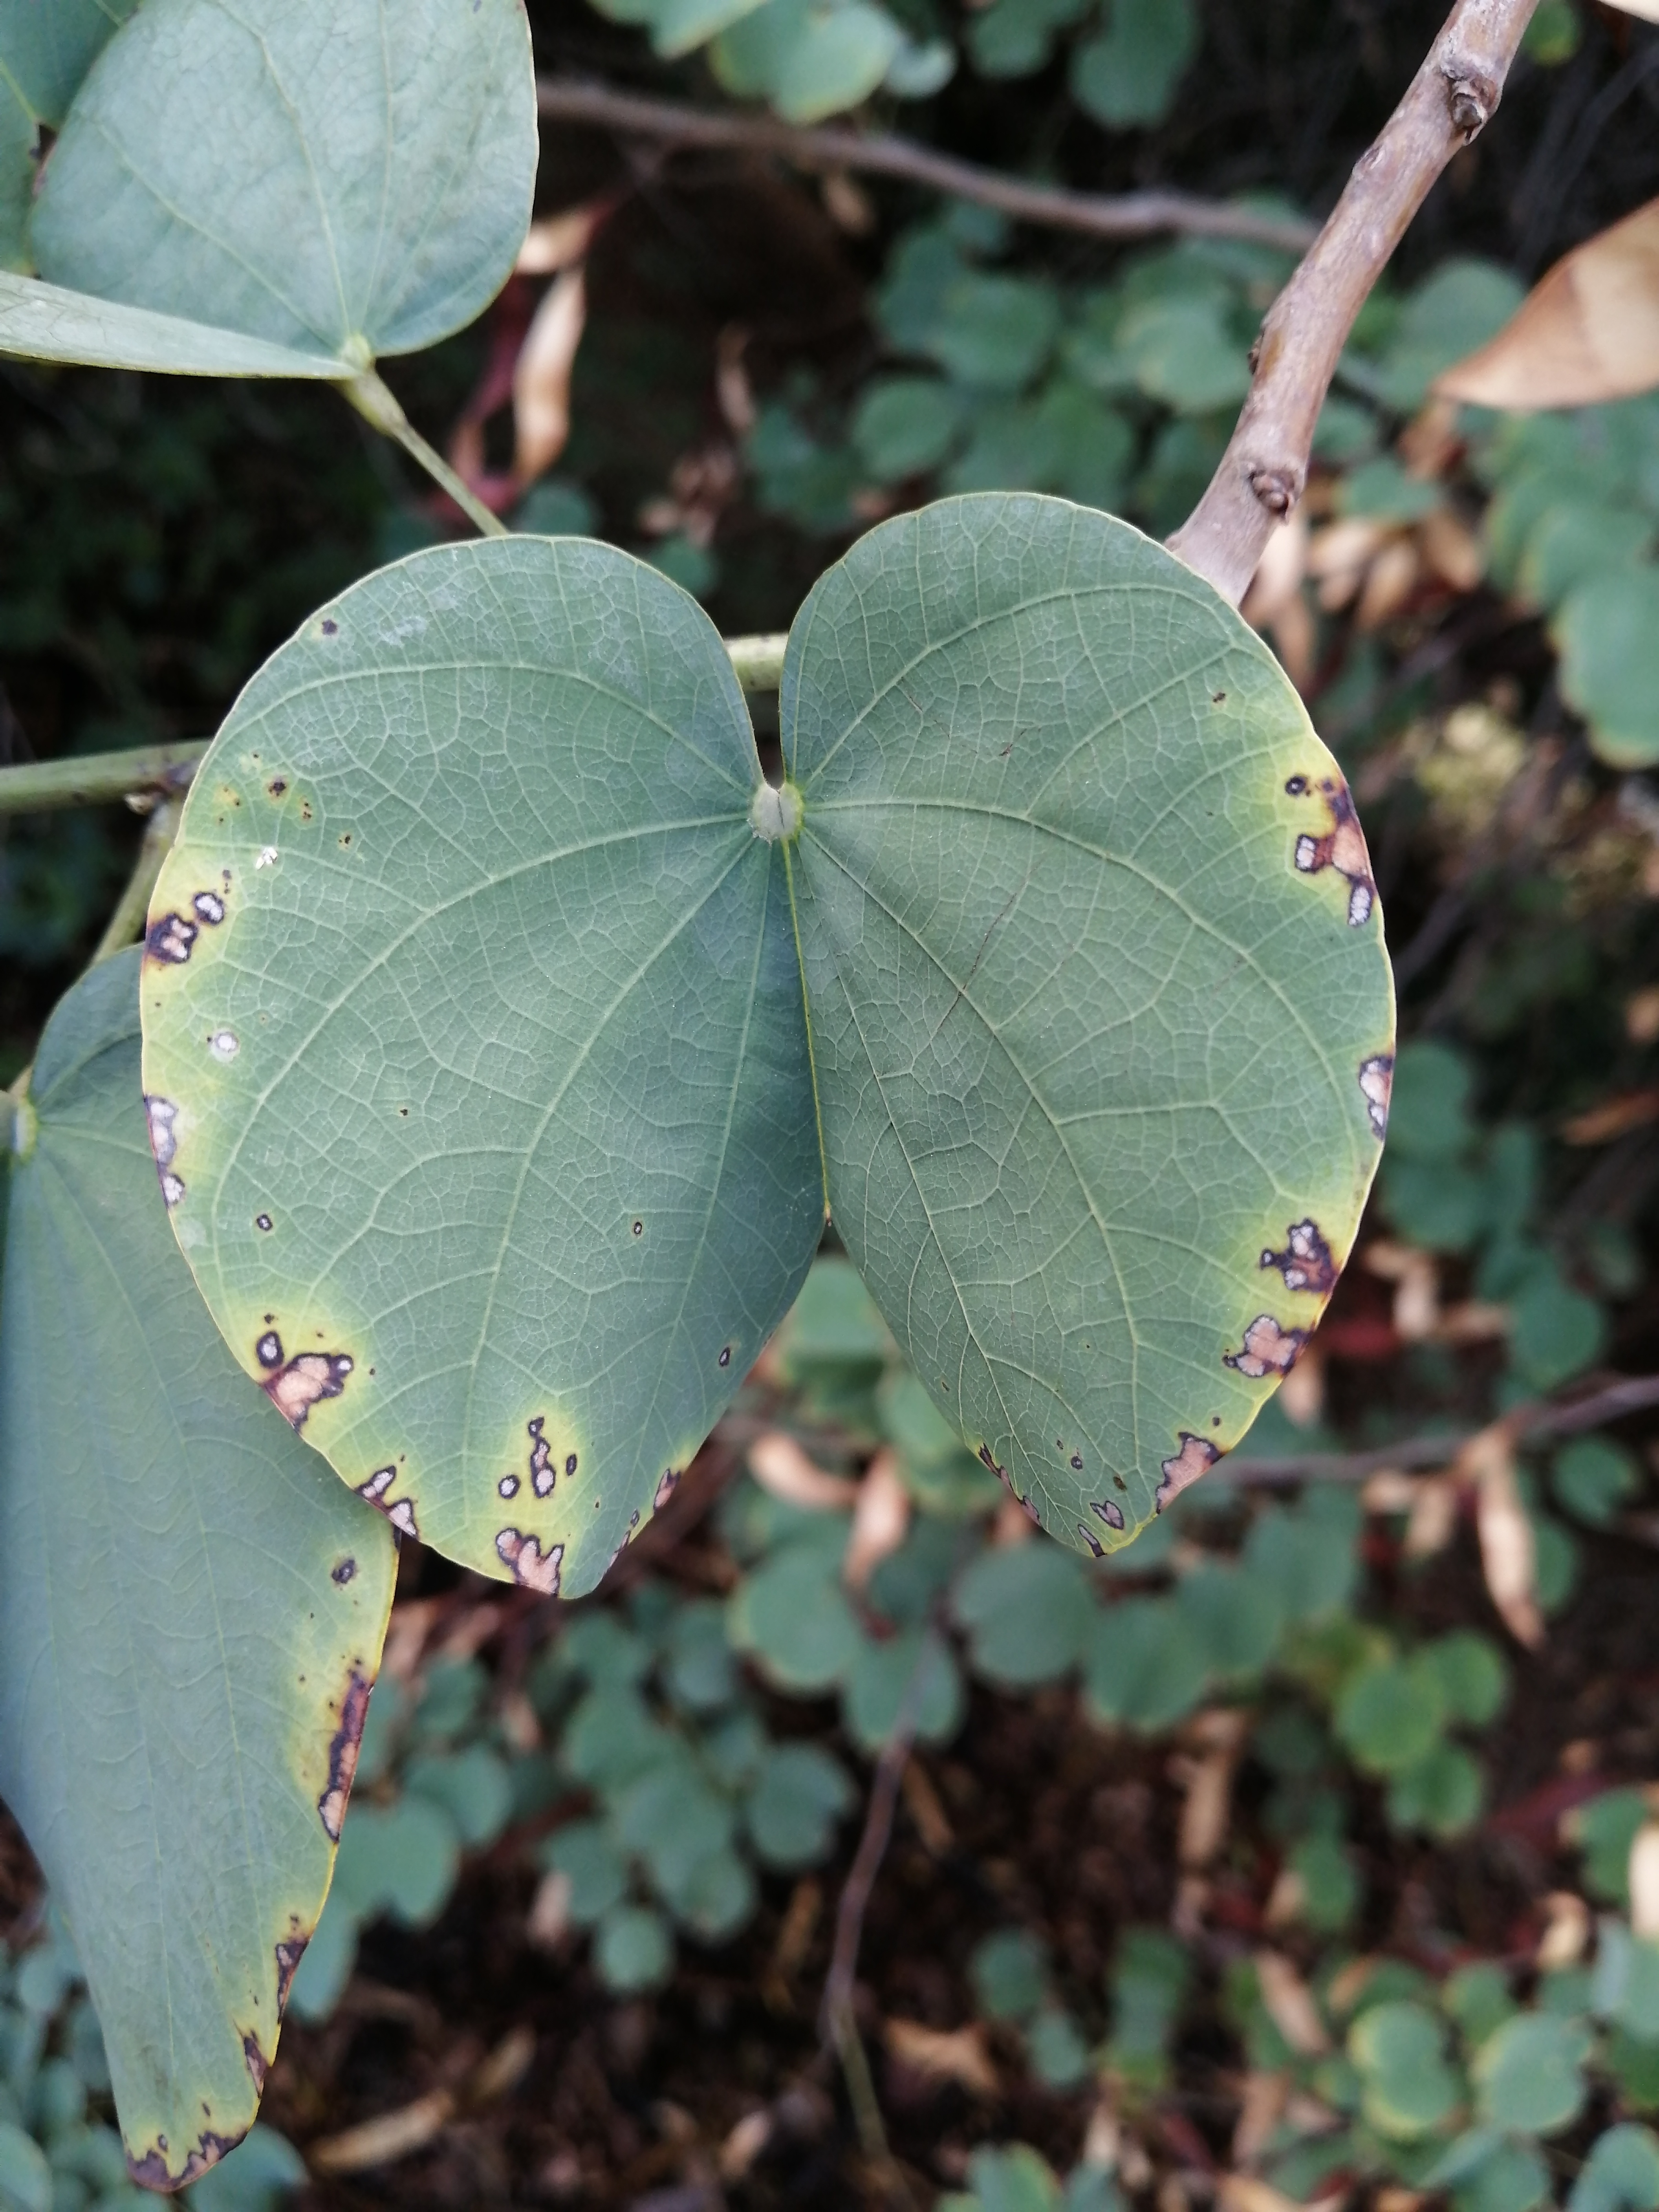nothealthy: (71, 502, 1457, 1618), (5, 939, 411, 2210)
